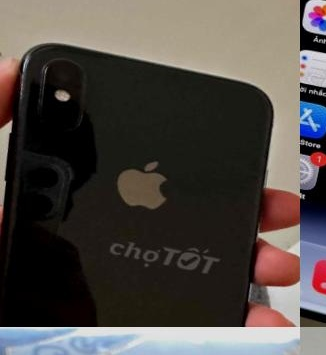scratch: (8, 62, 38, 104)
